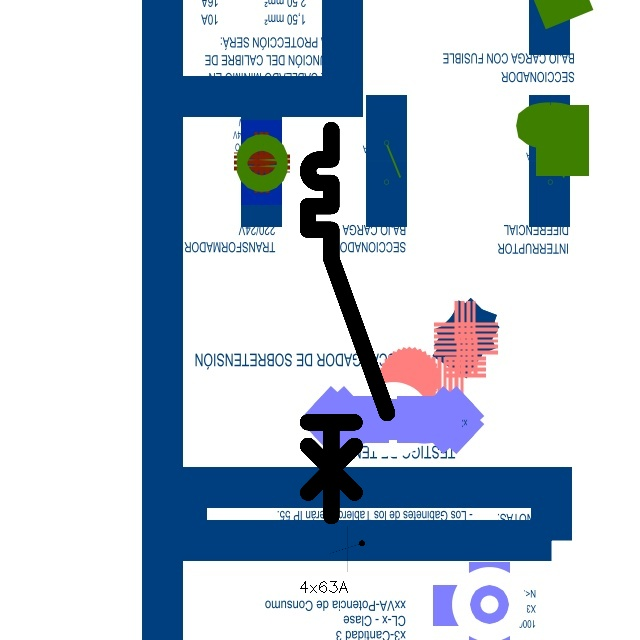interruptor_termomagnetico: (298, 120, 397, 526)
